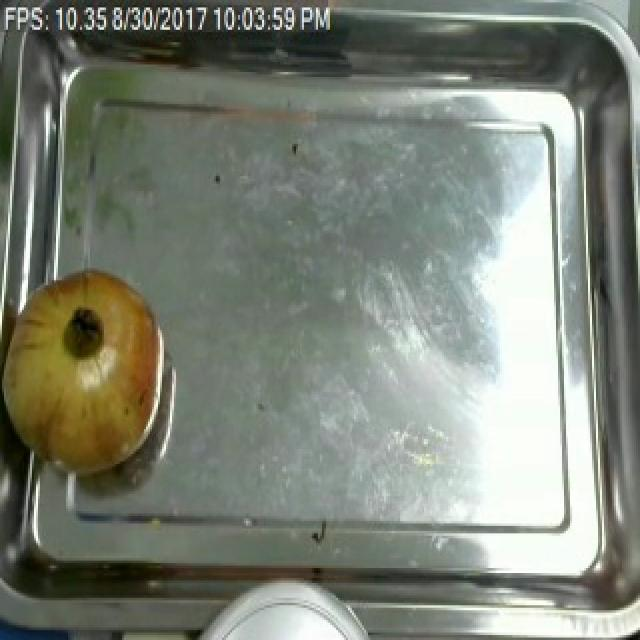fruit: (0, 256, 182, 498)
